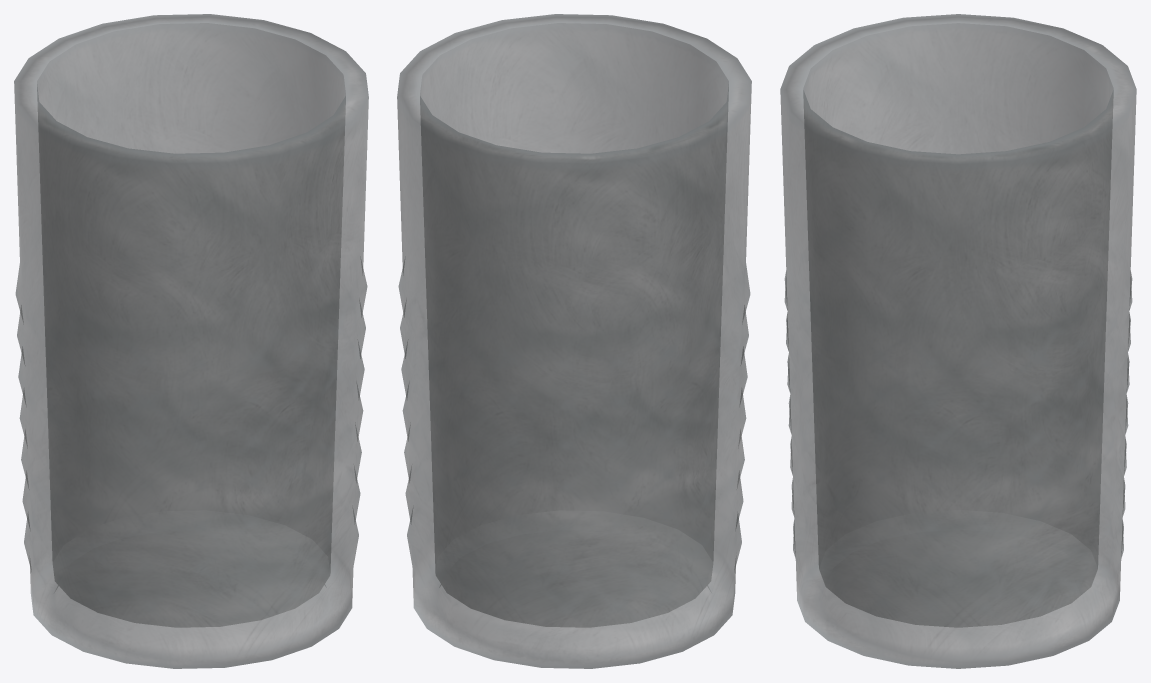
The picture shows the model from 3 angles, left to right: view 1: azimuth 30°, elevation 25°; view 2: azimuth 150°, elevation 25°; view 3: azimuth 270°, elevation 25°; orthographic projection.
Visible parts, largest first — view 1: Major_low; view 2: Major_low; view 3: Major_low.
Boxes of the visible parts, box(x1,y1,x2,y2) form: Major_low: box(14, 14, 368, 668); Major_low: box(397, 14, 751, 668); Major_low: box(780, 14, 1136, 668).
Size of the model in its own units: 0.3157 by 0.5006 by 0.3157.
Materials: 1 (1 with a texture image).
